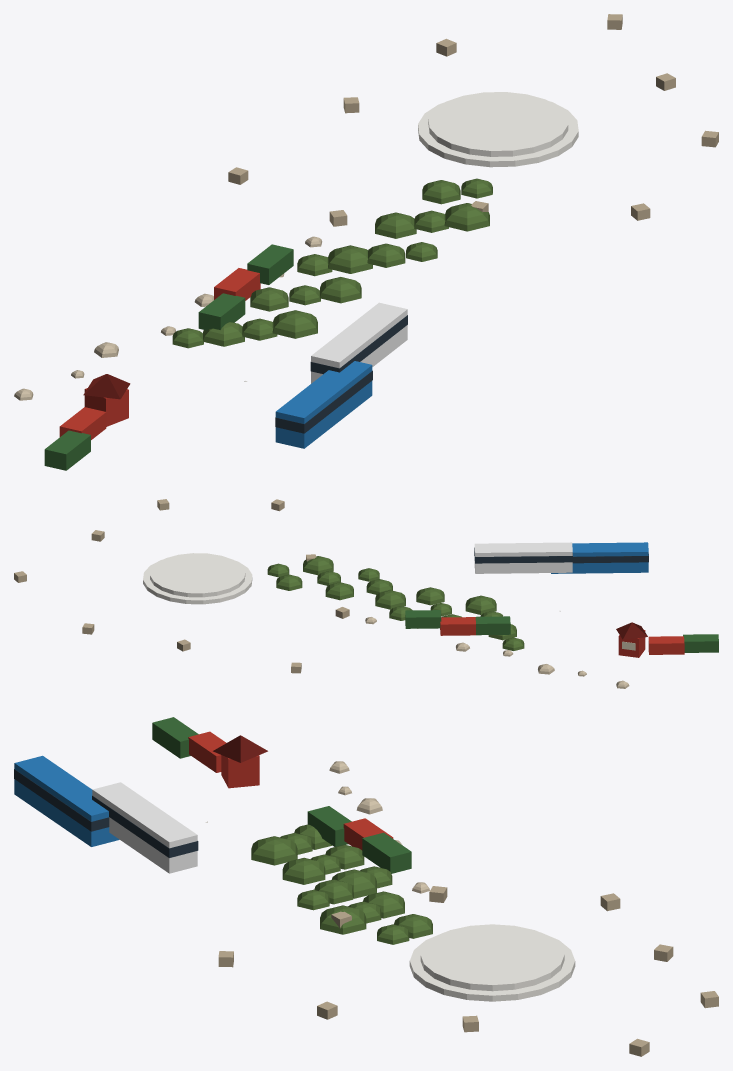
The model's file is lhsite.glb.
The picture shows the model from 3 angles, top to bottom: view 1: azimuth 30°, elevation 25°; view 2: azimuth 150°, elevation 25°; view 3: azimuth 270°, elevation 25°; orthographic projection. The views are drawn at different scales.
Parts seen in each view (by area): view 1: lhsite_lod0; view 2: lhsite_lod0; view 3: lhsite_lod0.
Part boxes in pixels (x1=…): lhsite_lod0: x1=14, y1=14, x2=718, y2=470; lhsite_lod0: x1=14, y1=499, x2=718, y2=688; lhsite_lod0: x1=14, y1=717, x2=718, y2=1056.
Size of what is drawn, in the model's own units: 71.47 by 8.53 by 52.88.
